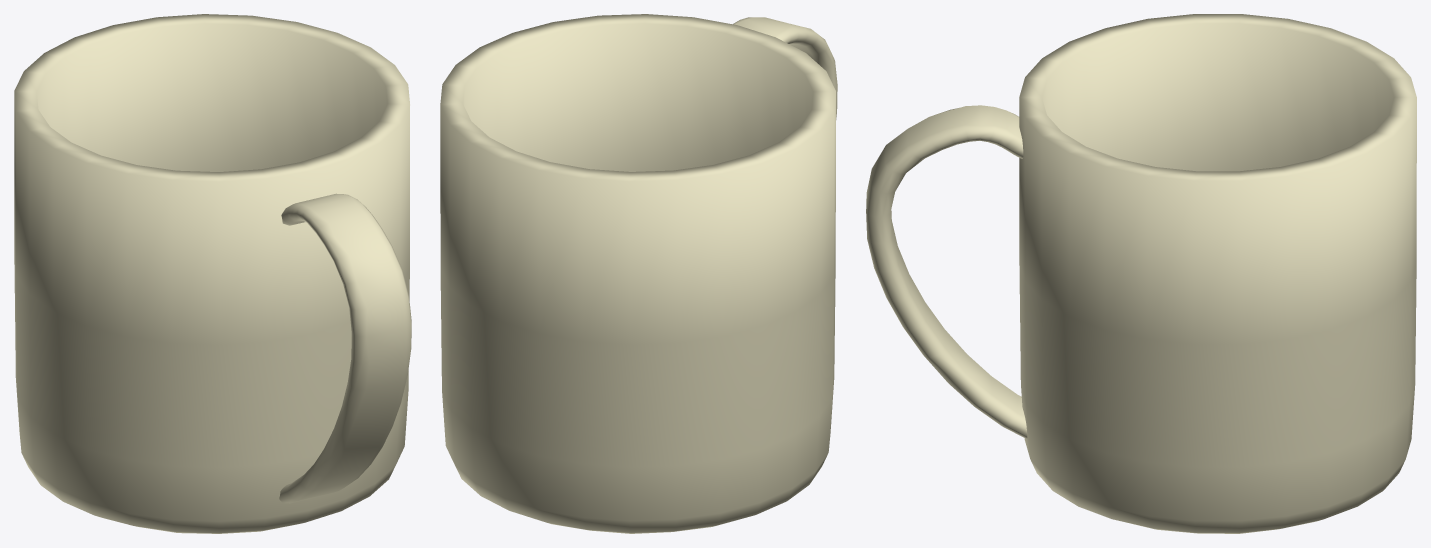
Rendered from mug.fbx.
3 renders of one model, left to right at view 1: azimuth 30°, elevation 25°; view 2: azimuth 150°, elevation 25°; view 3: azimuth 270°, elevation 25°, orthographic.
Parts seen in each view (by area): view 1: mug; view 2: mug; view 3: mug.
Part boxes in pixels (<box>): mug: <box>14,14,411,533</box>; mug: <box>440,14,837,533</box>; mug: <box>866,14,1416,533</box>.
Size of the model in its own units: 191 by 198 by 266.
